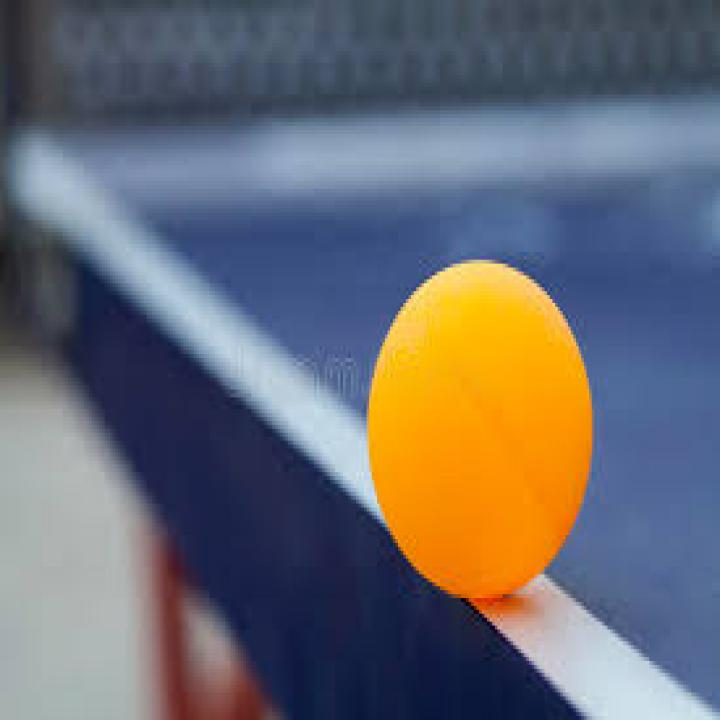orange: (364, 258, 600, 606)
